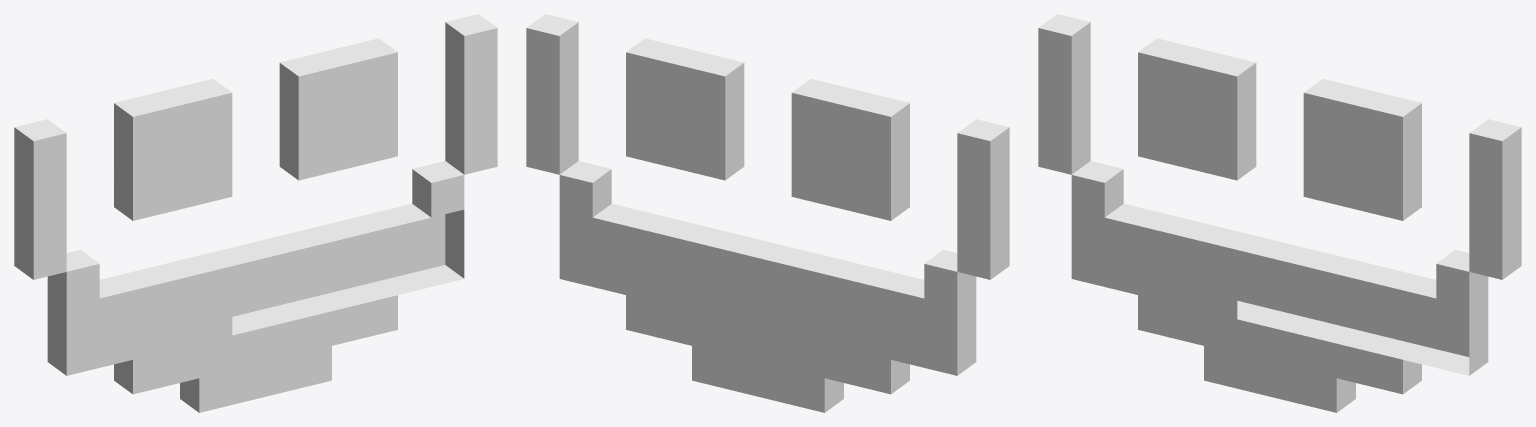
File: wei_xiao_zhe_.obj
3 views of the same model, side by side, from view 1: azimuth 30°, elevation 25°; view 2: azimuth 150°, elevation 25°; view 3: azimuth 330°, elevation 25° (orthographic).
Parts seen in each view (by area): view 1: cube; view 2: cube; view 3: cube.
Part boxes in pixels (x1=…): cube: x1=14, y1=14, x2=497, y2=412; cube: x1=526, y1=14, x2=1009, y2=412; cube: x1=1038, y1=14, x2=1521, y2=412.
Size of the model in its own units: 0.875 by 0.5625 by 0.0625.
